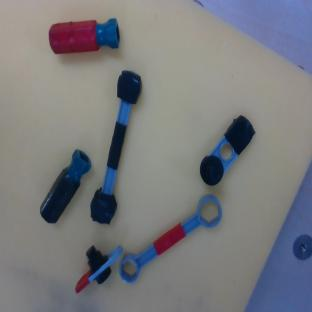part_1_bad: (192, 112, 260, 189)
part_1_good: (67, 233, 124, 302)
part_2_bad: (34, 147, 96, 226)
part_2_good: (47, 18, 121, 54)
part_3_bad: (87, 68, 144, 226)
part_3_good: (112, 191, 229, 290)
